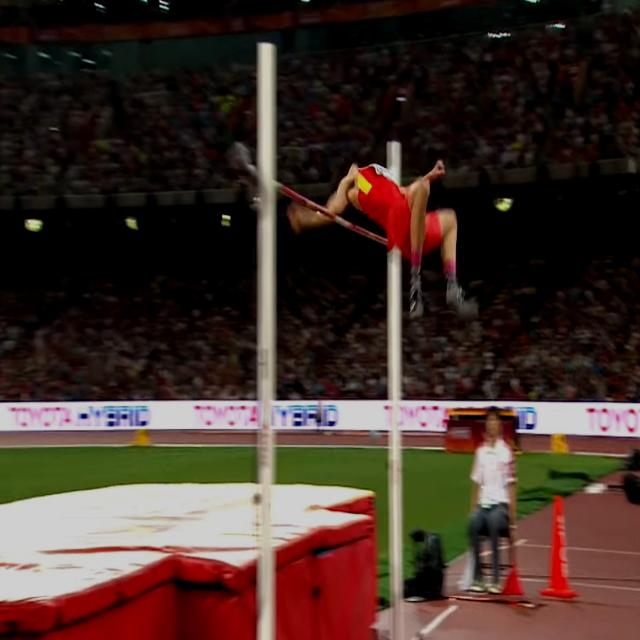jump: (280, 157, 478, 319)
